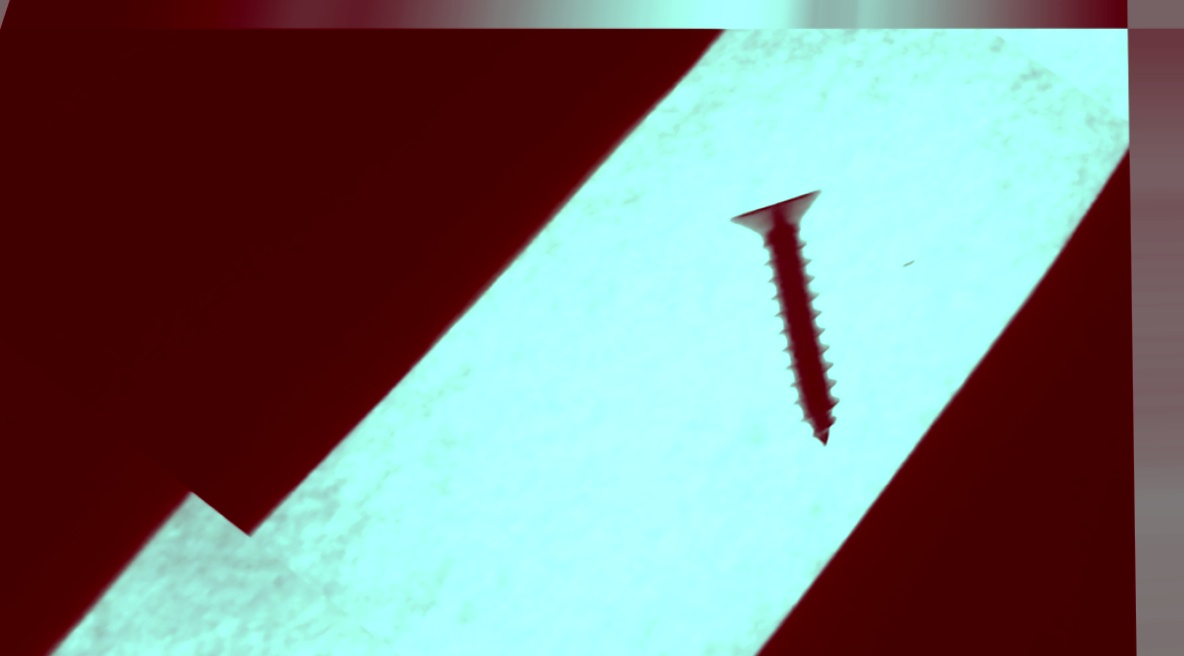S001: (609, 141, 992, 472)
